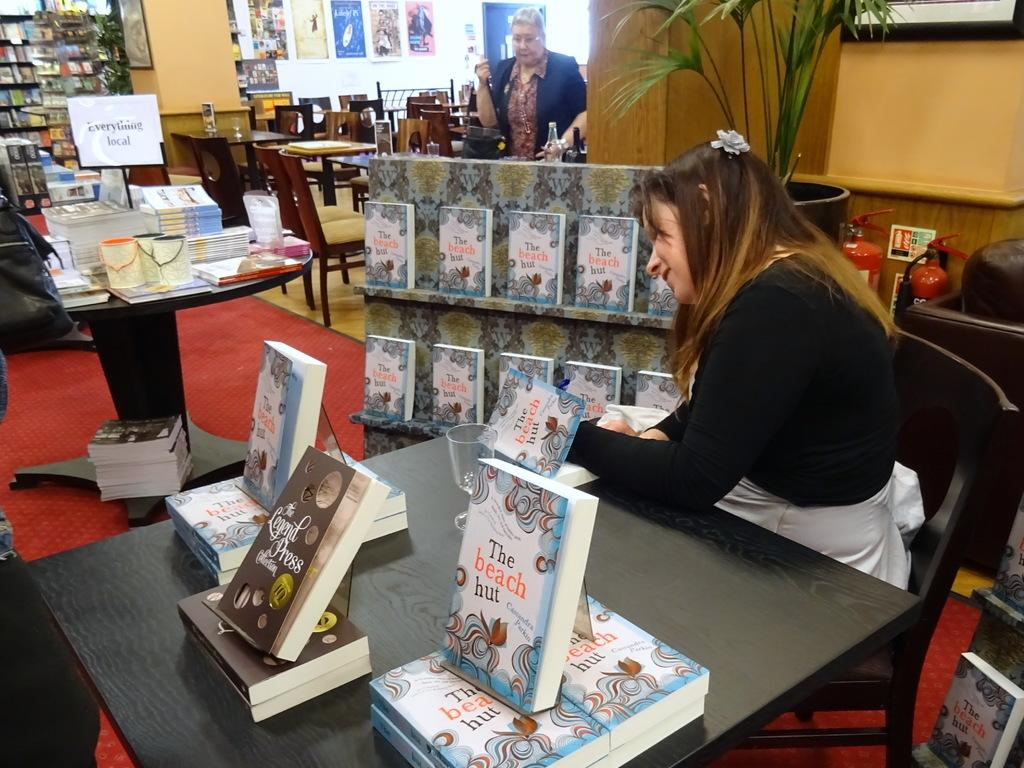Chair: (707, 323, 1020, 767)
